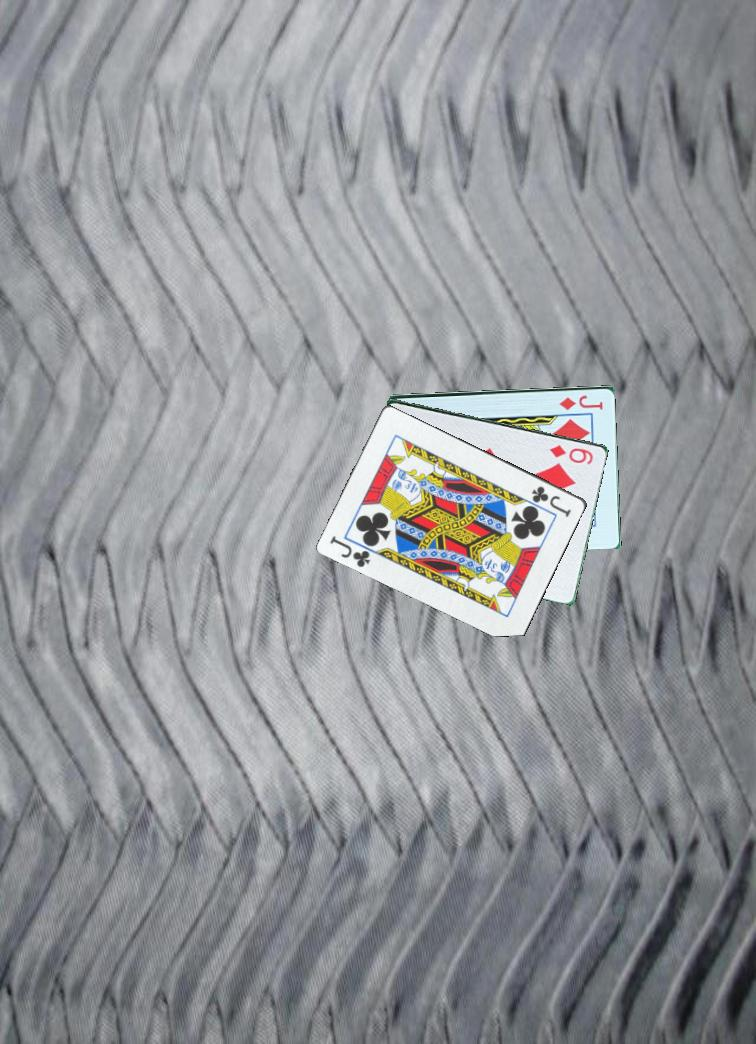6d: (547, 440, 596, 467)
jc: (327, 532, 374, 570), (528, 482, 574, 519)
jd: (556, 391, 606, 413)
